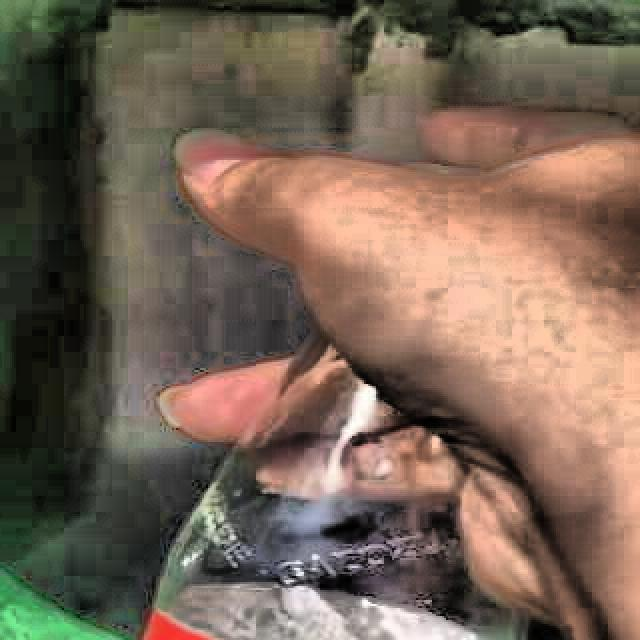glass: (143, 340, 525, 640)
